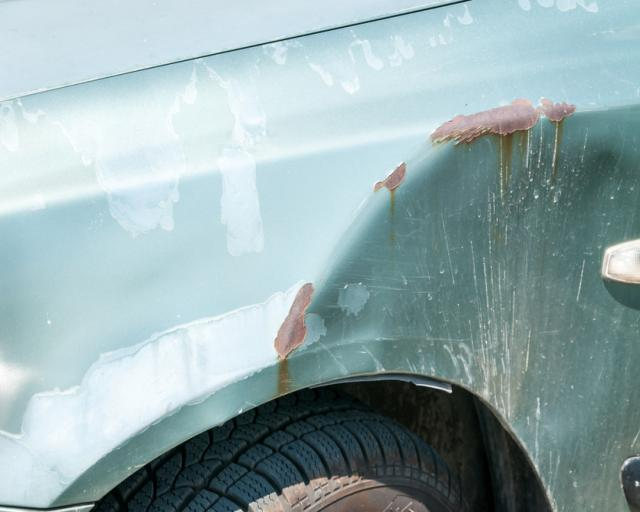dent: (283, 117, 640, 463)
